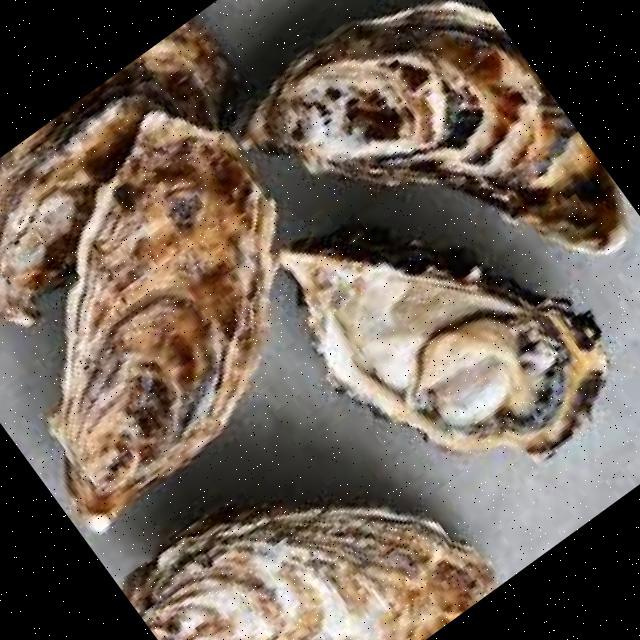Oyster-Closed: (242, 0, 635, 265), (40, 113, 281, 539), (0, 13, 257, 335), (123, 504, 496, 639)
Oyster-Open: (279, 251, 608, 459)
